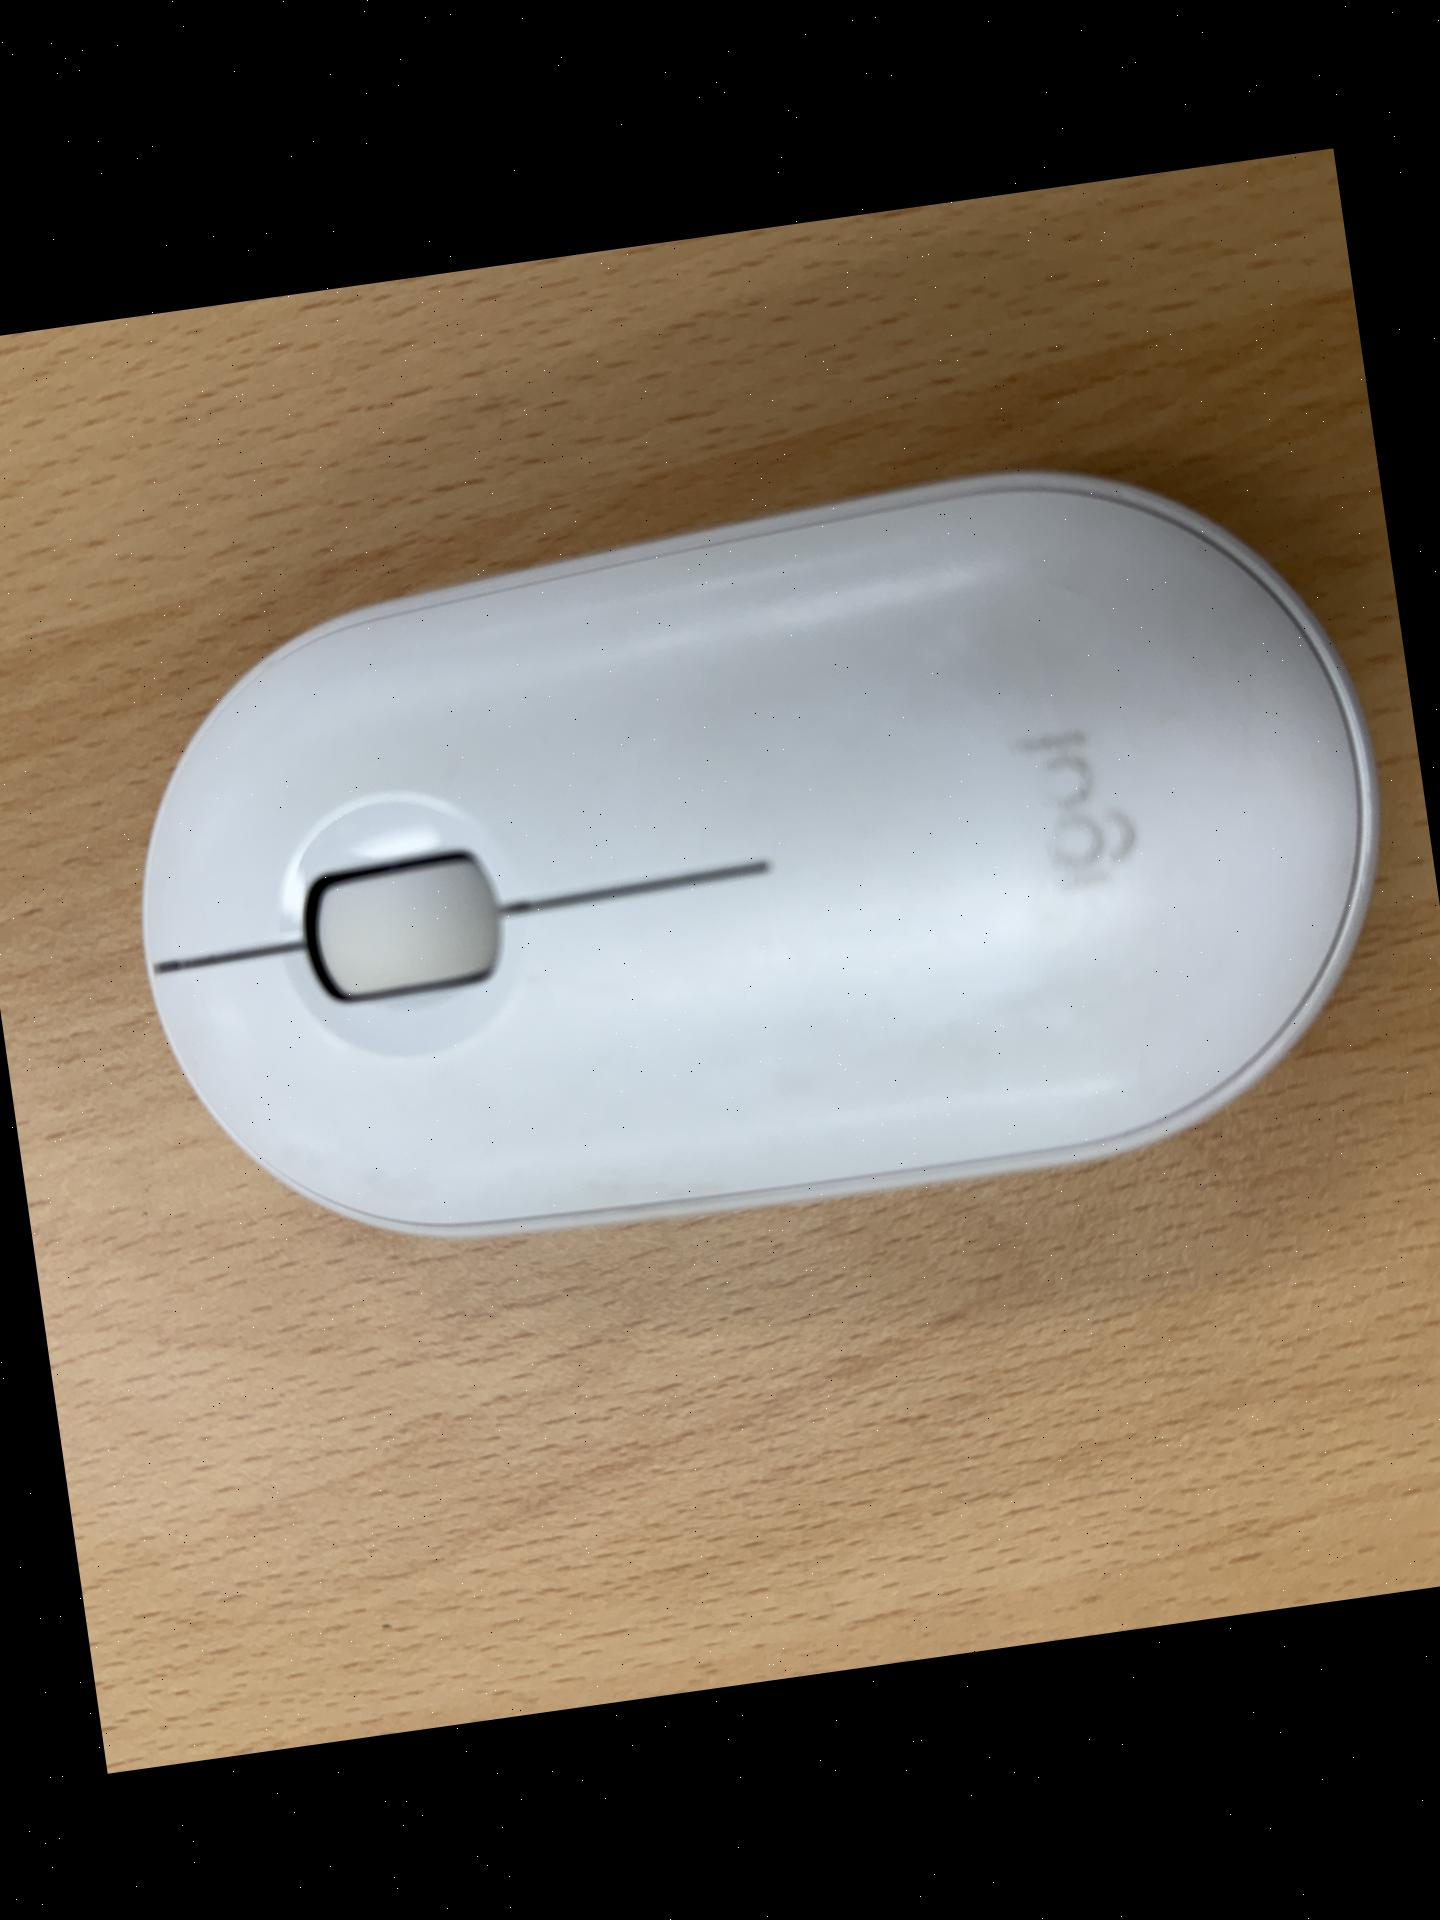front: (88, 419, 1431, 1293)
